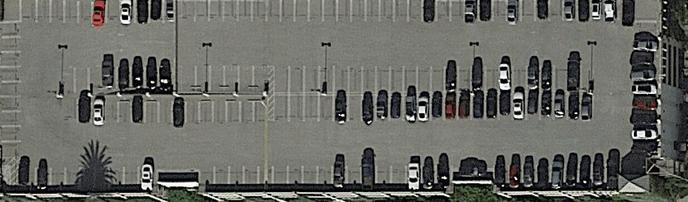parkingspot: (19, 0, 635, 27), (198, 160, 619, 193), (273, 91, 595, 123), (274, 62, 595, 94), (75, 93, 269, 125), (71, 65, 270, 96), (17, 165, 155, 194), (631, 36, 661, 153), (0, 21, 23, 158)
